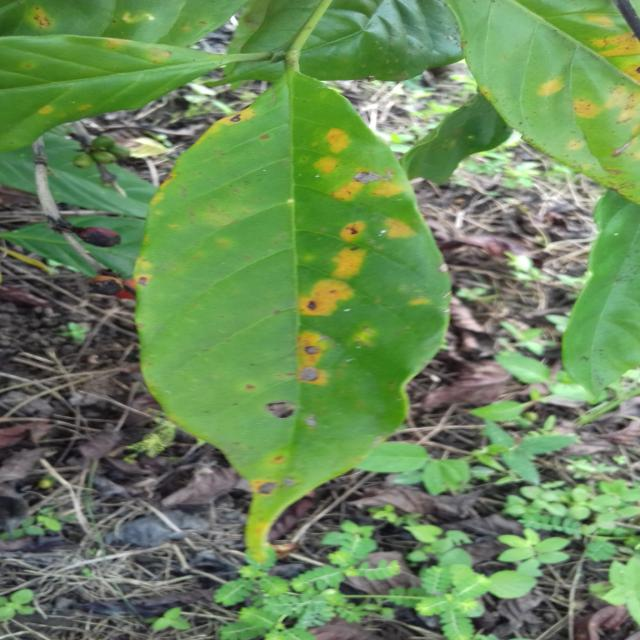Enfermedad-Roya: (134, 80, 452, 552)
